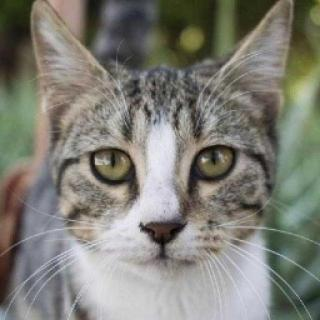cat: (29, 0, 300, 278)
nose: (130, 192, 196, 250)
